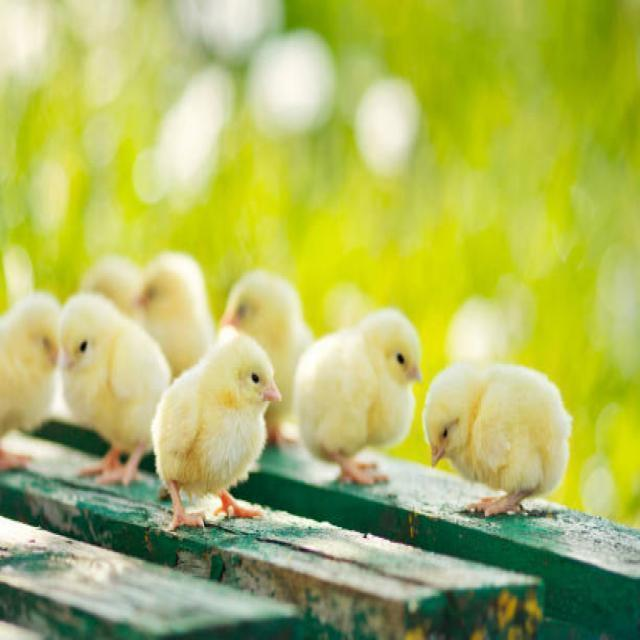poussin: (292, 309, 442, 495), (150, 328, 284, 535), (419, 360, 575, 530), (55, 293, 188, 480), (0, 290, 73, 465), (218, 273, 316, 377), (138, 258, 226, 362)
